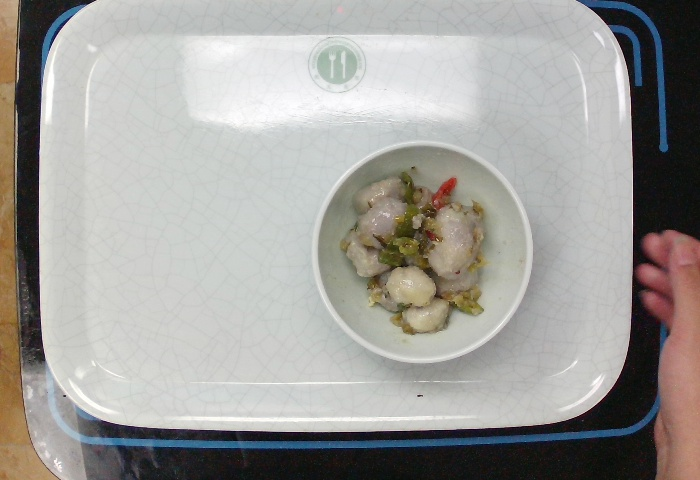JYsf-Fan_Wan: (308, 133, 547, 374)
